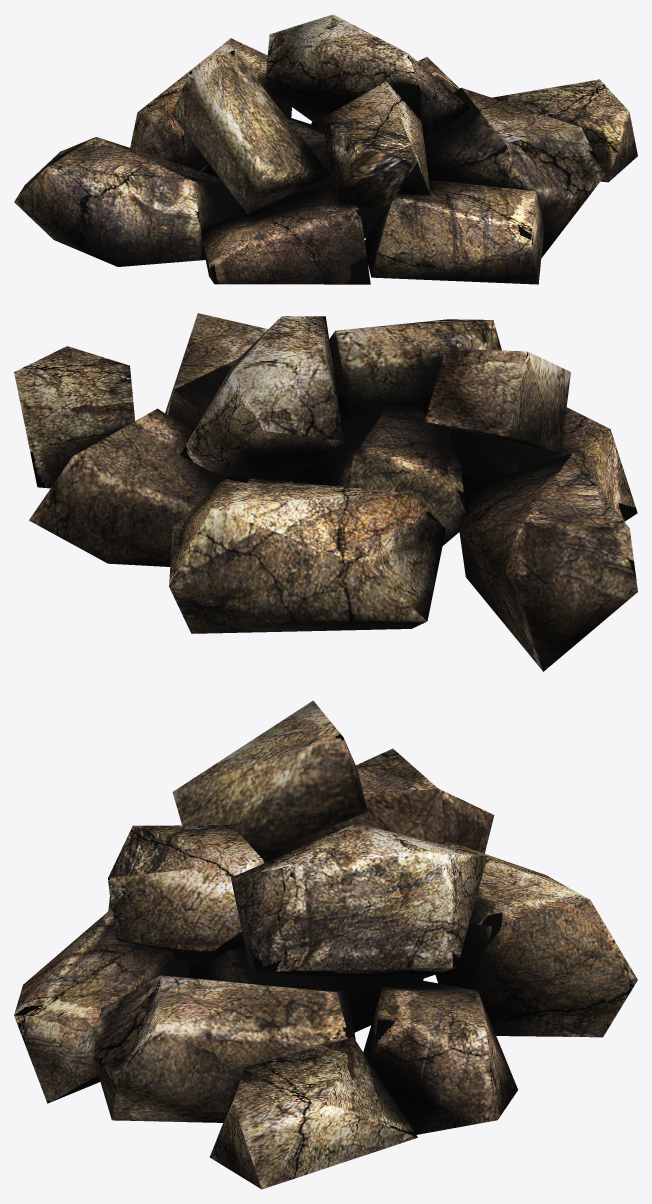
File: rock_007_LOD2.obj
The picture shows the model from 3 angles, top to bottom: view 1: azimuth 30°, elevation 25°; view 2: azimuth 150°, elevation 25°; view 3: azimuth 270°, elevation 25°; orthographic projection. The views are drawn at different scales.
Parts seen in each view (by area): view 1: rock_007_LOD2 rock_007; view 2: rock_007_LOD2 rock_007; view 3: rock_007_LOD2 rock_007.
Boxes of the visible parts, bbox=[...] form: rock_007_LOD2 rock_007: bbox=[14, 14, 637, 284]; rock_007_LOD2 rock_007: bbox=[14, 313, 637, 671]; rock_007_LOD2 rock_007: bbox=[14, 700, 637, 1189].
Bounding box in the file's own units: 721 × 243 × 546.
1 material, 1 textured.
